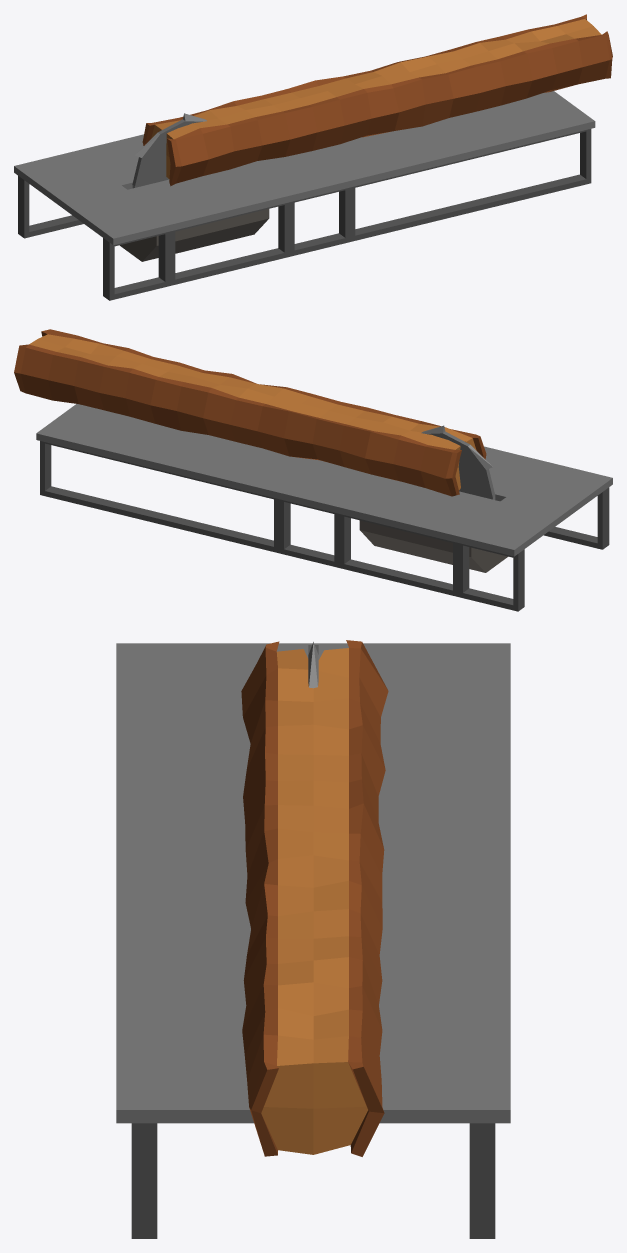
Rendered from Циркулярка.fbx.
3 views of the same model, one above another, from view 1: azimuth 30°, elevation 25°; view 2: azimuth 150°, elevation 25°; view 3: azimuth 270°, elevation 25° (orthographic). The views are drawn at different scales.
Visible parts, largest first — view 1: Куб.103, Куб.104, Куб.105, Куб.100, Куб.102; view 2: Куб.103, Куб.104, Куб.105, Куб.100, Куб.102; view 3: Куб.104, Куб.103, Куб.105.
Boxes of the visible parts, box(x1,y1,x2,y2) form: Куб.103: box(142, 14, 612, 186); Куб.104: box(14, 91, 595, 245); Куб.105: box(18, 129, 591, 300); Куб.100: box(120, 209, 269, 261); Куб.102: box(132, 113, 206, 188); Куб.103: box(14, 329, 486, 496); Куб.104: box(36, 404, 612, 556); Куб.105: box(40, 441, 609, 611); Куб.100: box(359, 520, 507, 572); Куб.102: box(421, 425, 495, 499); Куб.104: box(116, 643, 510, 1123); Куб.103: box(241, 640, 388, 1156); Куб.105: box(131, 1123, 495, 1238).
Bounding box in the file's own units: 3818 × 848 × 1225.
